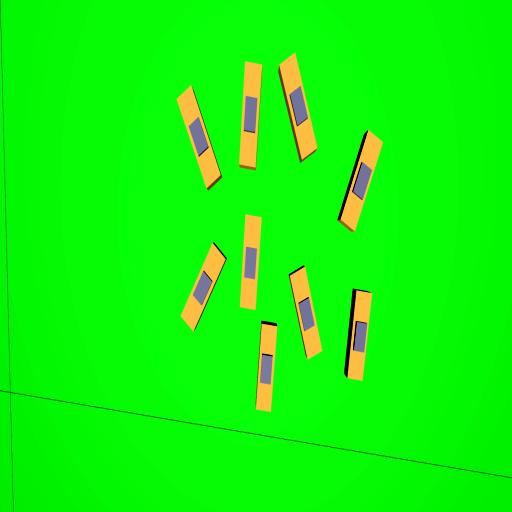objects: (173, 85, 224, 189), (337, 131, 385, 232), (176, 242, 230, 331), (277, 53, 319, 160), (289, 265, 323, 359), (238, 60, 262, 168), (347, 291, 372, 382), (239, 214, 262, 311), (255, 322, 277, 413)
